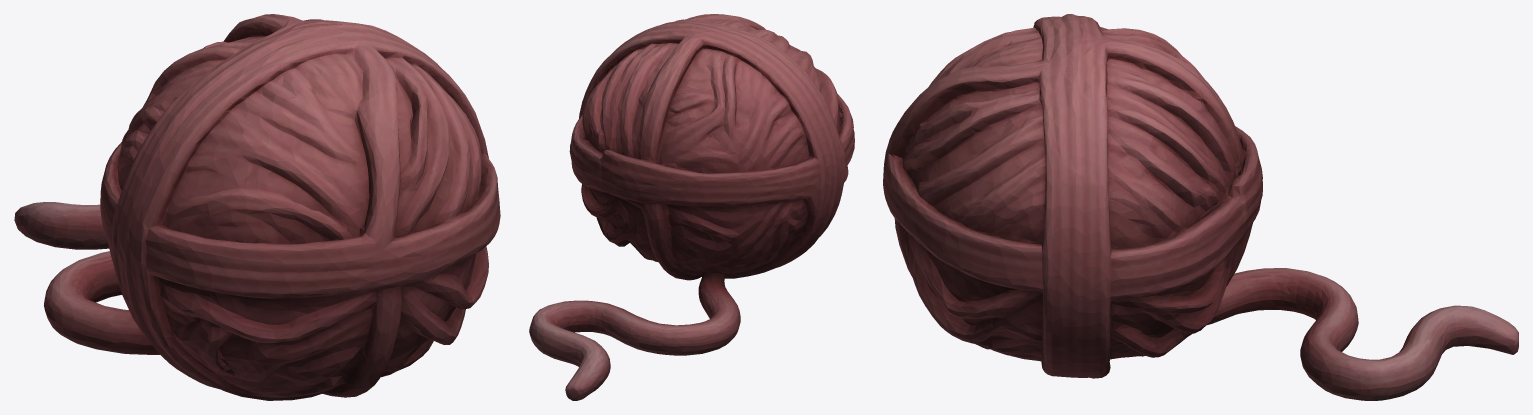
The model's file is item_yarn_ball.glb.
3 renders of one model, left to right at view 1: azimuth 30°, elevation 25°; view 2: azimuth 150°, elevation 25°; view 3: azimuth 270°, elevation 25°, orthographic. The views are drawn at different scales.
Visible parts, largest first — view 1: geometry_0; view 2: geometry_0; view 3: geometry_0.
Part boxes in pixels (x1,y1,x2,y2): geometry_0: [14, 14, 500, 400]; geometry_0: [529, 14, 854, 400]; geometry_0: [883, 14, 1518, 400].
Bounding box in the file's own units: 0.6031 × 0.5831 × 0.9987.
Materials: 1 (1 with a texture image).
